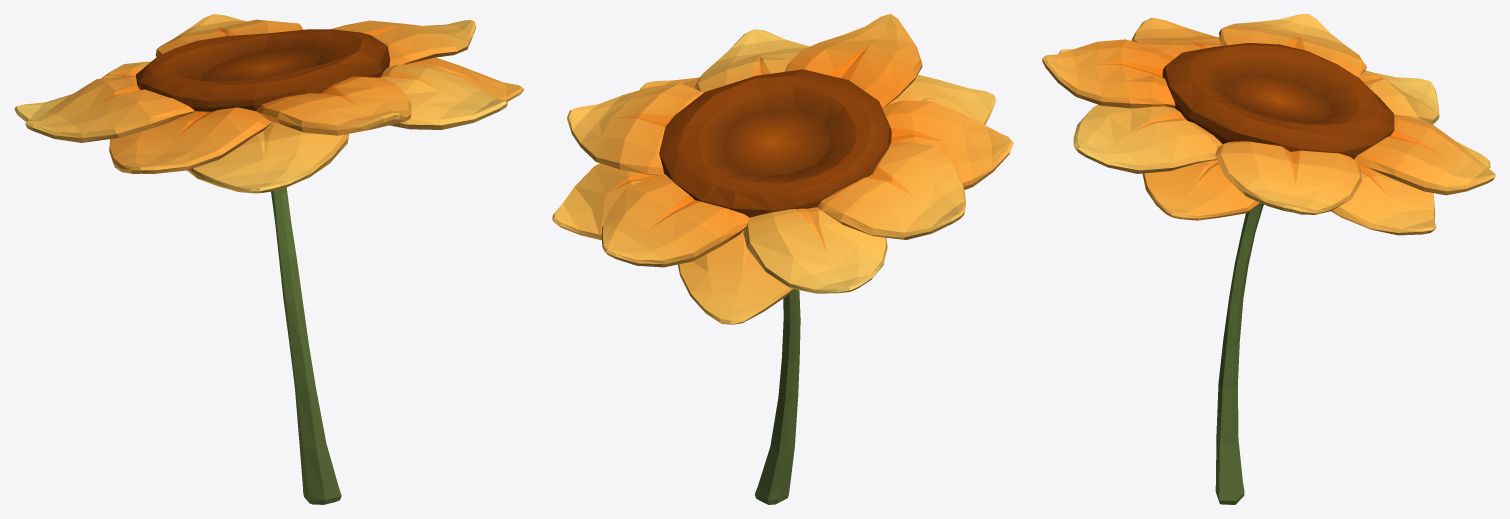
Rendered from CharSkyKid_Prop_BloomSunflowerUmbrella.glb.
3 renders of one model, left to right at view 1: azimuth 30°, elevation 25°; view 2: azimuth 150°, elevation 25°; view 3: azimuth 270°, elevation 25°, orthographic. The views are drawn at different scales.
Visible parts, largest first — view 1: CharSkyKid_Prop_BloomSunflowerUmbrella; view 2: CharSkyKid_Prop_BloomSunflowerUmbrella; view 3: CharSkyKid_Prop_BloomSunflowerUmbrella.
Boxes of the visible parts, left/top/right/bottom form: CharSkyKid_Prop_BloomSunflowerUmbrella: left=14, top=14, right=523, bottom=504; CharSkyKid_Prop_BloomSunflowerUmbrella: left=552, top=14, right=1013, bottom=504; CharSkyKid_Prop_BloomSunflowerUmbrella: left=1042, top=14, right=1495, bottom=504.
Size of the model in its own units: 16.48 by 16.81 by 16.06.
1 material, 1 textured.
